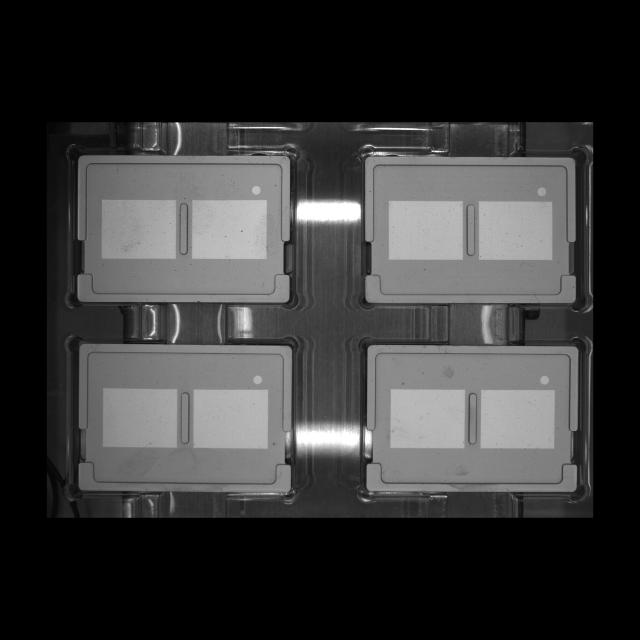product: (64, 332, 300, 505), (65, 141, 303, 311), (358, 142, 590, 314), (358, 333, 590, 505)
